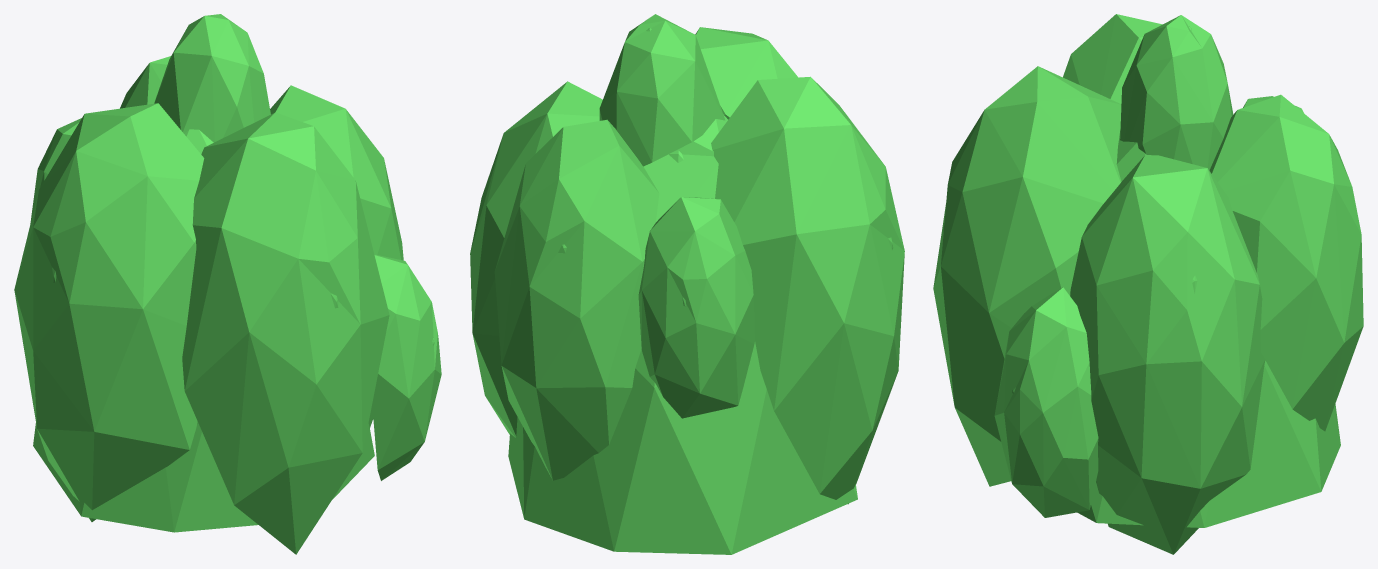
The model's file is bush3.gltf.
3 views of the same model, side by side, from view 1: azimuth 30°, elevation 25°; view 2: azimuth 150°, elevation 25°; view 3: azimuth 270°, elevation 25° (orthographic). The views are drawn at different scales.
Visible parts, largest first — view 1: Sphere.047_leaves_0; view 2: Sphere.047_leaves_0; view 3: Sphere.047_leaves_0.
Boxes of the visible parts, x1,y1,x2,y2 form: Sphere.047_leaves_0: (14,14,441,554); Sphere.047_leaves_0: (470,14,904,554); Sphere.047_leaves_0: (933,14,1363,554).
Size of the model in its own units: 0.3193 by 0.3867 by 0.3142.
